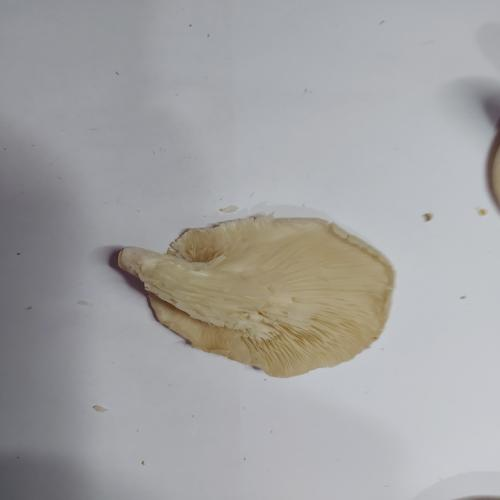Oyster Mushroom: (116, 212, 397, 379)
